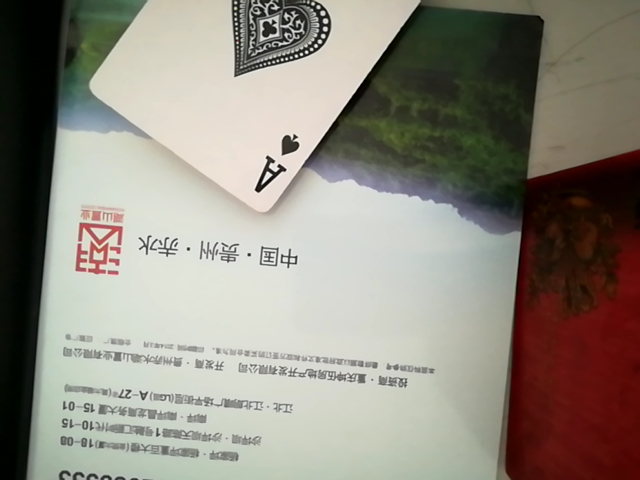ht a: (52, 1, 473, 217)
